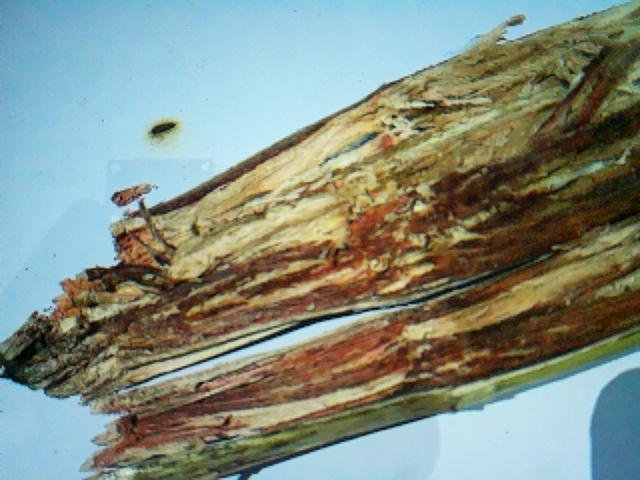Red-Rot: (30, 33, 640, 440)
